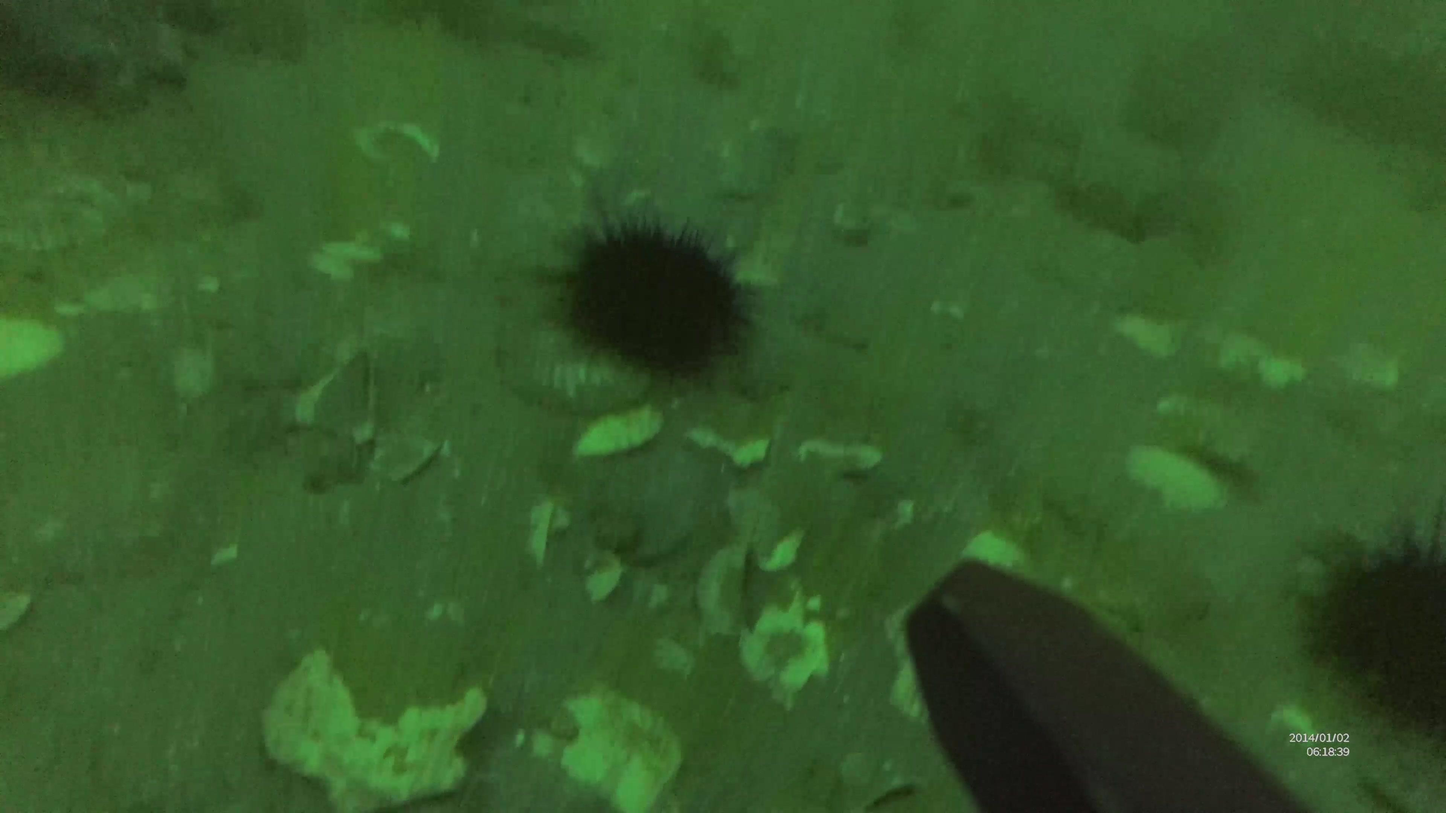scallop: (498, 679, 691, 813)
starfish: (566, 203, 756, 380), (1324, 529, 1446, 740)
